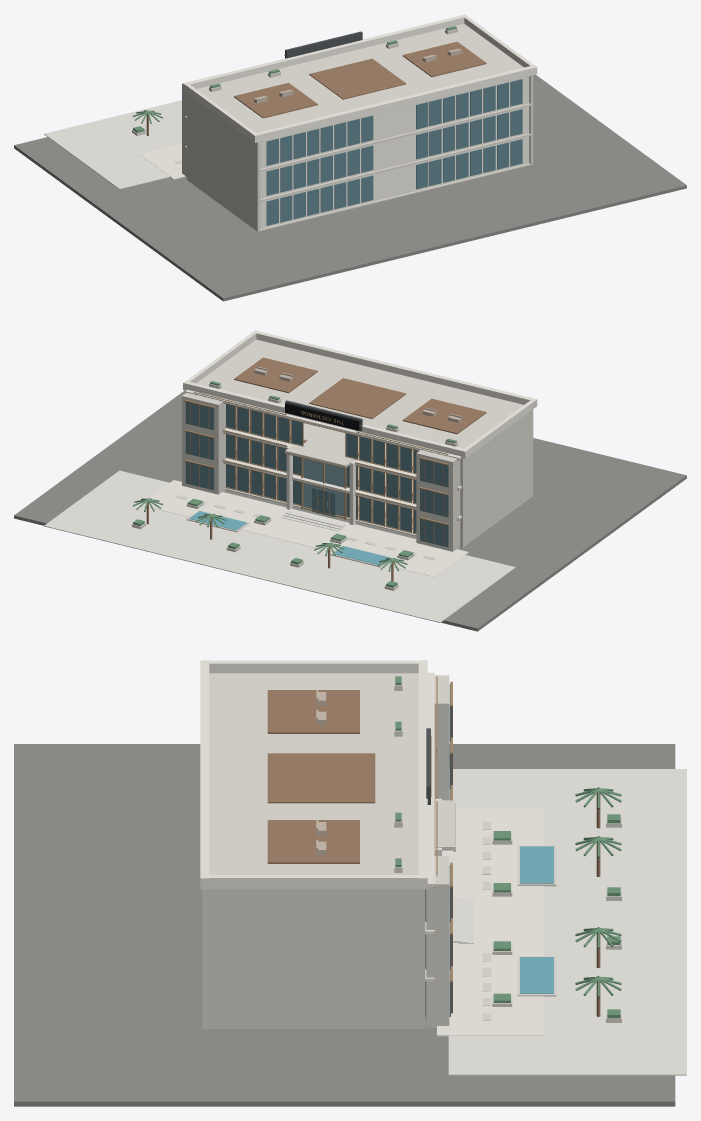
Rendered from exchange.glb.
3 views of the same model, one above another, from view 1: azimuth 30°, elevation 25°; view 2: azimuth 150°, elevation 25°; view 3: azimuth 270°, elevation 25° (orthographic). The views are drawn at different scales.
Visible parts, largest first — view 1: asphalt, limestone, cream, glass, marble, wood, black; view 2: asphalt, limestone, marble, cream, glass, wood, bronze, green, glasslight, water, THE EXCHANGE signage, darkbronze (+1 smaller); view 3: asphalt, limestone, marble, cream, wood, green, water, bronze.
Part boxes in pixels (x1=…): asphalt: x1=14, y1=74, x2=686, y2=301; limestone: x1=132, y1=18, x2=533, y2=231; cream: x1=140, y1=14, x2=537, y2=228; glass: x1=266, y1=79, x2=522, y2=225; marble: x1=44, y1=100, x2=181, y2=189; wood: x1=146, y1=41, x2=486, y2=135; black: x1=285, y1=31, x2=362, y2=58; asphalt: x1=14, y1=390, x2=686, y2=631; limestone: x1=132, y1=339, x2=533, y2=590; marble: x1=44, y1=470, x2=515, y2=622; cream: x1=140, y1=330, x2=537, y2=576; glass: x1=185, y1=402, x2=448, y2=547; wood: x1=146, y1=357, x2=486, y2=581; bronze: x1=184, y1=392, x2=459, y2=534; green: x1=132, y1=381, x2=456, y2=587; glasslight: x1=195, y1=393, x2=446, y2=516; water: x1=189, y1=511, x2=390, y2=564; THE EXCHANGE signage: x1=285, y1=403, x2=359, y2=430; darkbronze: x1=189, y1=402, x2=443, y2=546; asphalt: x1=14, y1=744, x2=675, y2=1106; limestone: x1=202, y1=673, x2=621, y2=1028; marble: x1=448, y1=769, x2=686, y2=1075; cream: x1=200, y1=660, x2=544, y2=1036; wood: x1=267, y1=690, x2=600, y2=1016; green: x1=395, y1=676, x2=621, y2=1018; water: x1=520, y1=846, x2=553, y2=993; bronze: x1=426, y1=676, x2=455, y2=1017.
Bounding box in the file's own units: 110 × 24.43 × 87.5.
16 materials, 1 textured.
